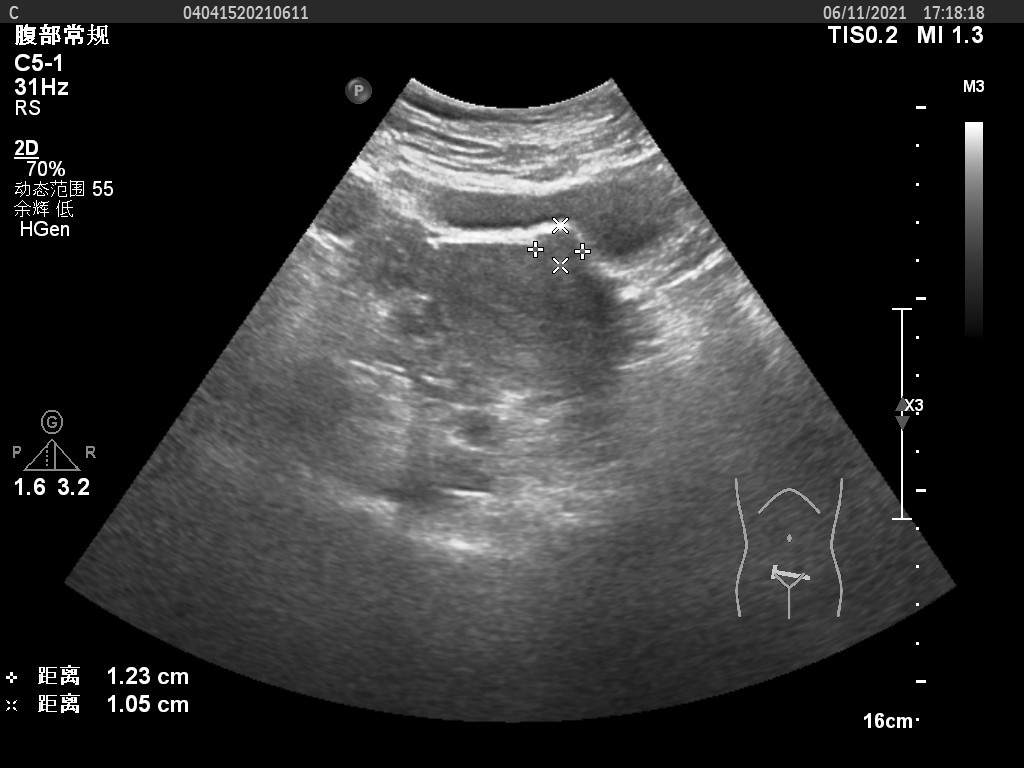肌瘤: (539, 222, 583, 265)
